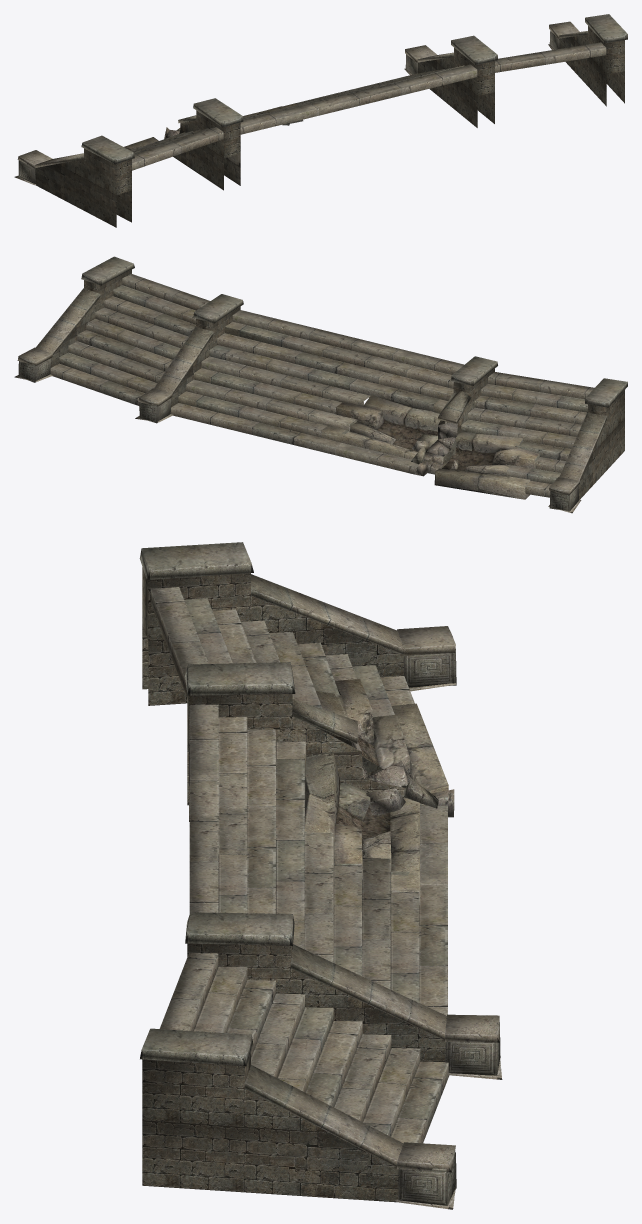
Rendered from taijie.FBX.
3 renders of one model, top to bottom at view 1: azimuth 30°, elevation 25°; view 2: azimuth 150°, elevation 25°; view 3: azimuth 270°, elevation 25°, orthographic. The views are drawn at different scales.
Parts seen in each view (by area): view 1: taijie; view 2: taijie; view 3: taijie.
Boxes of the visible parts, x1,y1,x2,y2 form: taijie: [14, 14, 627, 227]; taijie: [14, 256, 627, 513]; taijie: [139, 542, 502, 1209].
Bounding box in the file's own units: 3654 × 1027 × 478.
